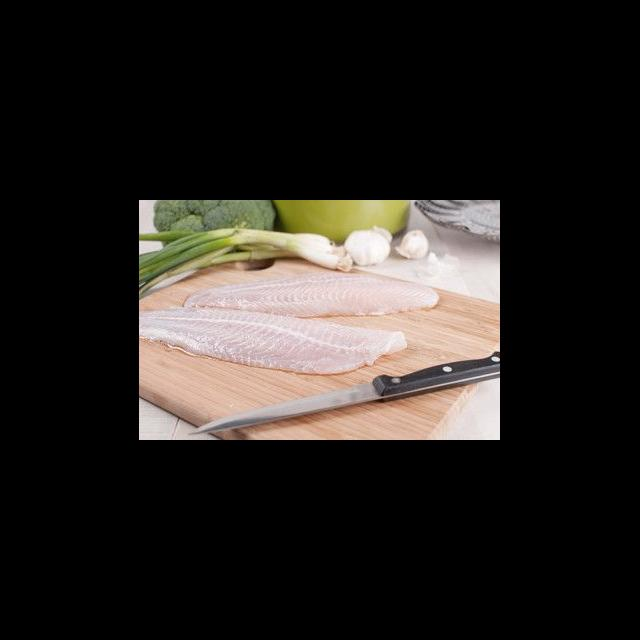fish: (140, 303, 418, 379)
